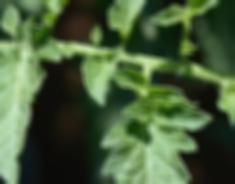Tomato leaf mosaic virus: (0, 44, 51, 184), (97, 109, 192, 184), (80, 45, 123, 109), (105, 0, 151, 45), (217, 79, 235, 146), (111, 67, 146, 94)
